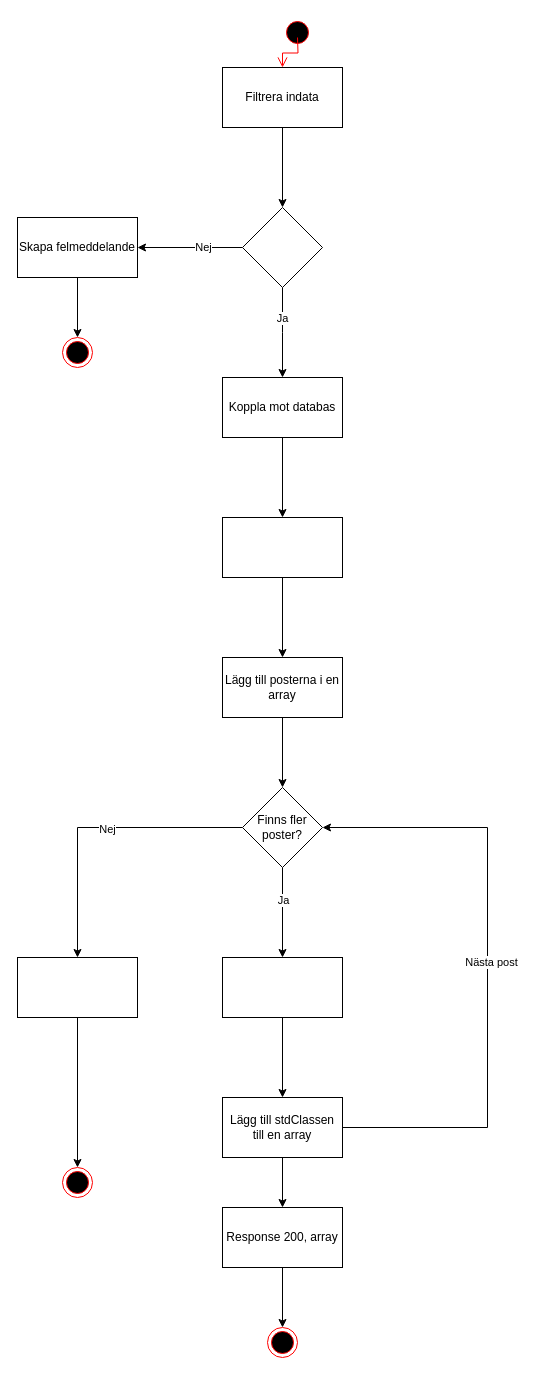
The diagram is 535 pixels wide and 1375 high, and some of its shapes have lost their labels. Each missing label, with the centre of its shape:
"Hämta alla poster från tabellen inom datum" belongs at (x=282, y=547).
"Lägg aktuell post i en stdClass med rätt egenskaper" belongs at (x=282, y=987).
"Skapa ny Response och lägg in arrayen" belongs at (x=77, y=987).
"Är datum giltiga?" belongs at (x=282, y=247).
